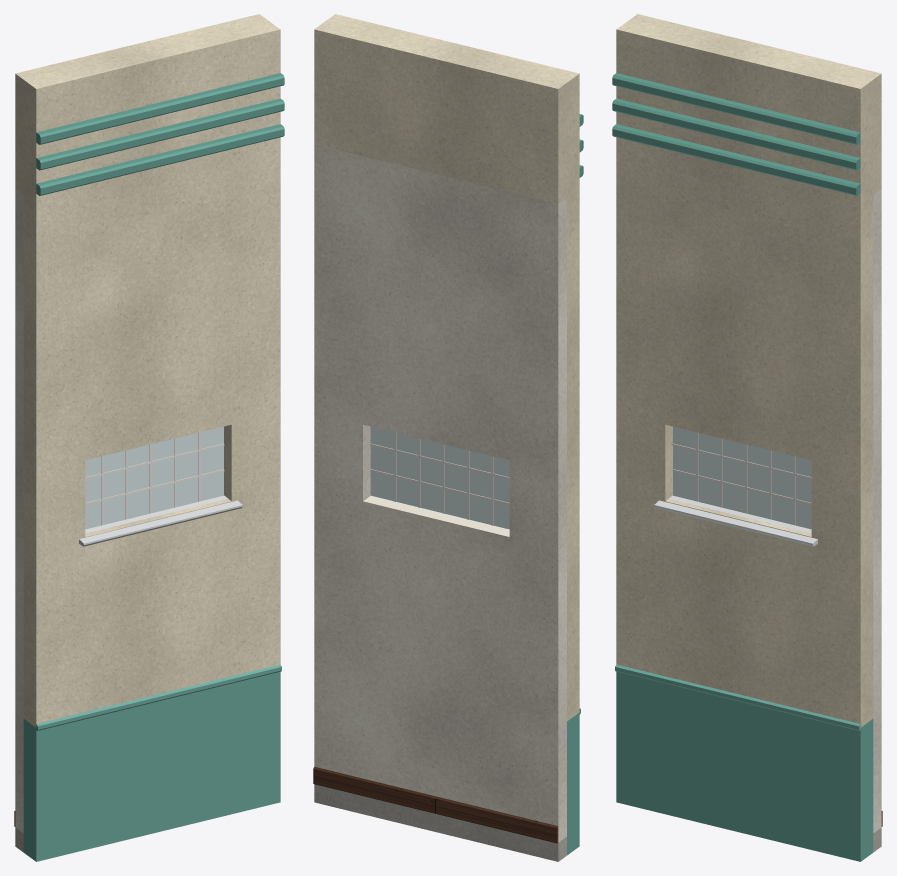
The picture shows the model from 3 angles, left to right: view 1: azimuth 30°, elevation 25°; view 2: azimuth 150°, elevation 25°; view 3: azimuth 330°, elevation 25°; orthographic projection.
Parts seen in each view (by area): view 1: w_high_render, w_high_tile_g, w_high_trim_g, w_high_gblock, w_high_plaster, w_high_coping, w_high_mortar; view 2: w_high_plaster, w_high_render, w_high_gblock, w_high_concrete, w_high_dkwood, w_high_mortar, w_high_tile_g; view 3: w_high_render, w_high_tile_g, w_high_trim_g, w_high_gblock, w_high_plaster, w_high_coping, w_high_mortar.
Part boxes in pixels (bbox=[...]): w_high_render: bbox=[15, 14, 280, 727]; w_high_tile_g: bbox=[23, 664, 281, 861]; w_high_trim_g: bbox=[36, 73, 284, 195]; w_high_gblock: bbox=[85, 426, 223, 529]; w_high_plaster: bbox=[15, 189, 23, 832]; w_high_coping: bbox=[79, 495, 242, 546]; w_high_mortar: bbox=[85, 432, 224, 525]; w_high_plaster: bbox=[314, 144, 566, 842]; w_high_render: bbox=[314, 14, 579, 721]; w_high_gblock: bbox=[370, 426, 509, 529]; w_high_concrete: bbox=[314, 784, 566, 861]; w_high_dkwood: bbox=[313, 766, 558, 843]; w_high_mortar: bbox=[370, 432, 509, 525]; w_high_tile_g: bbox=[567, 708, 580, 855]; w_high_render: bbox=[616, 14, 881, 727]; w_high_tile_g: bbox=[615, 664, 873, 861]; w_high_trim_g: bbox=[612, 73, 860, 195]; w_high_gblock: bbox=[673, 426, 811, 529]; w_high_plaster: bbox=[873, 189, 881, 832]; w_high_coping: bbox=[654, 495, 817, 546]; w_high_mortar: bbox=[672, 432, 811, 525].
Bounding box in the file's own units: 2 × 6.05 × 0.386.
Materials: 9 (4 with a texture image).
